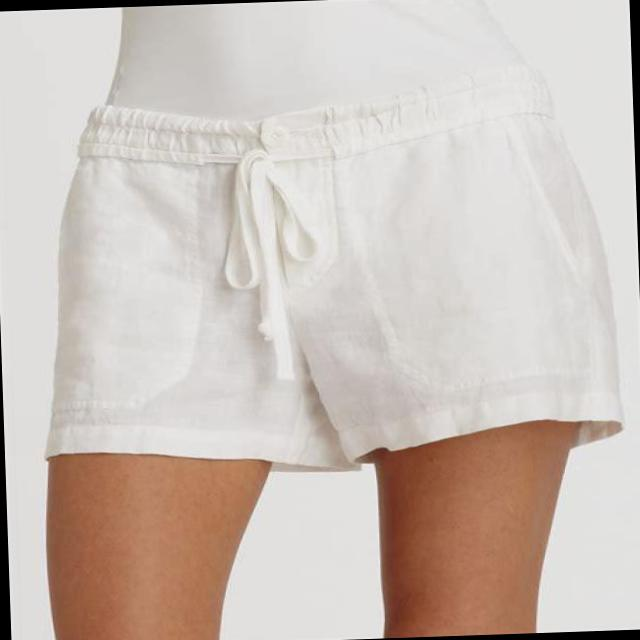short: (32, 62, 625, 484)
